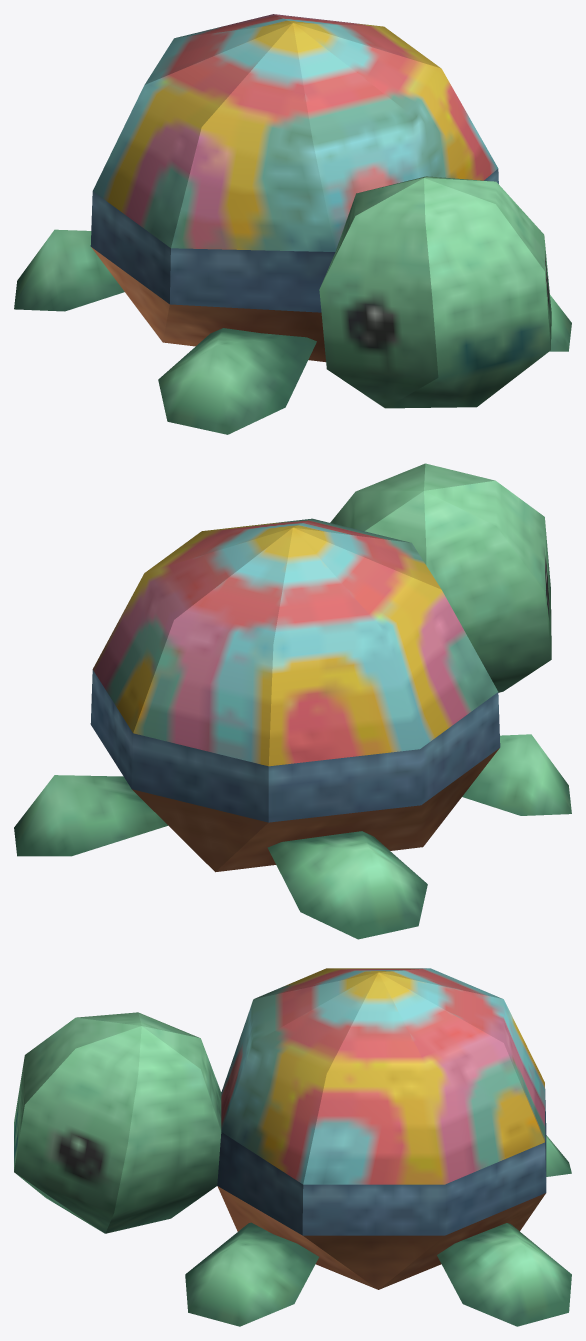
Rendered from tortugaPeluche.fbx.
3 renders of one model, top to bottom at view 1: azimuth 30°, elevation 25°; view 2: azimuth 150°, elevation 25°; view 3: azimuth 270°, elevation 25°, orthographic. The views are drawn at different scales.
Visible parts, largest first — view 1: tortuga; view 2: tortuga; view 3: tortuga.
Part boxes in pixels (x1,y1,x2,y2): tortuga: (14,14,571,434); tortuga: (14,463,571,939); tortuga: (14,968,571,1326).
Bounding box in the file's own units: 18.46 × 12.78 × 24.39.
Materials: 1 (1 with a texture image).
